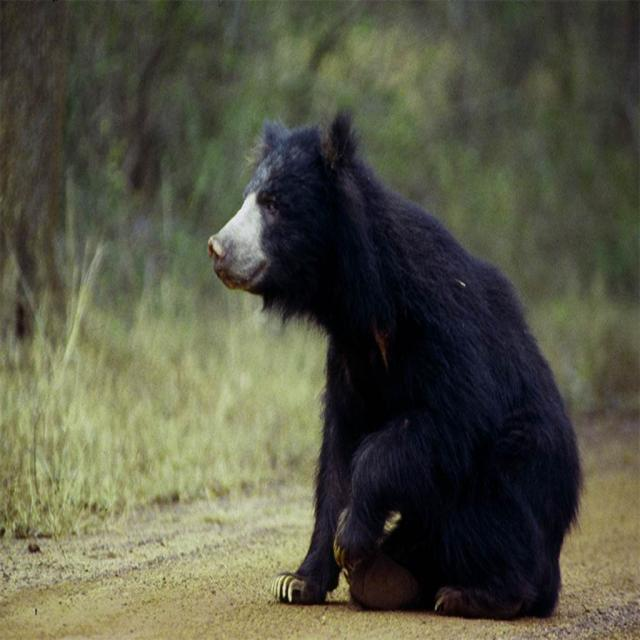Buffalo: (206, 103, 586, 622)
